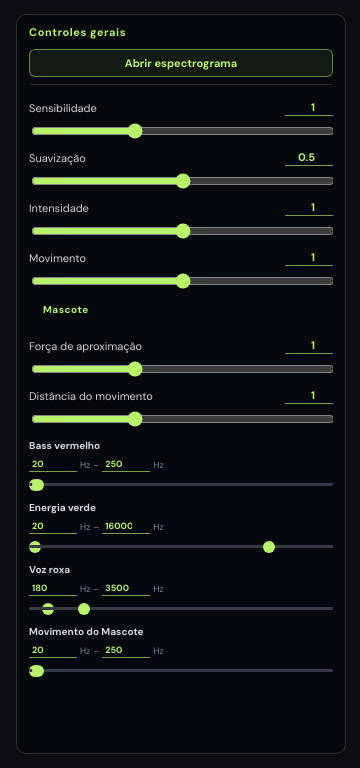
VisualizerControls › toggles the spectrogram action label
Step 1. Click the button with class "spectrogram-button" → [181, 63], box [29, 49, 333, 77]
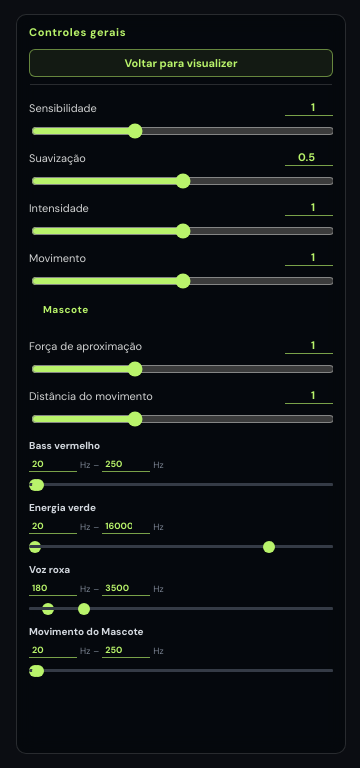
Expected: the button with class "spectrogram-button" reads "Voltar para visualizer"
Step 2. Click the button with class "spectrogram-button" → [181, 63], box [29, 49, 333, 77]
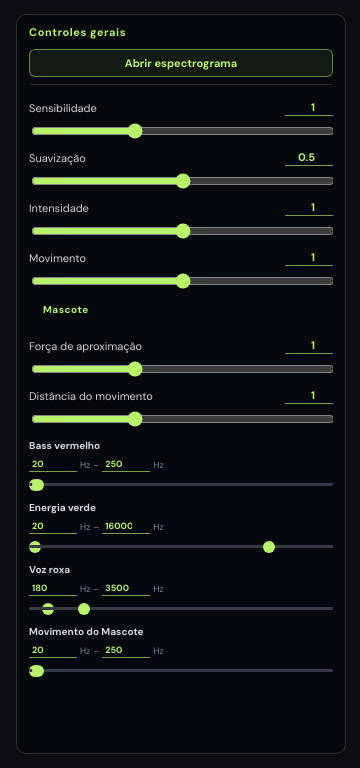
Expected: the button with class "spectrogram-button" reads "Abrir espectrograma", [29, 49, 333, 77]
